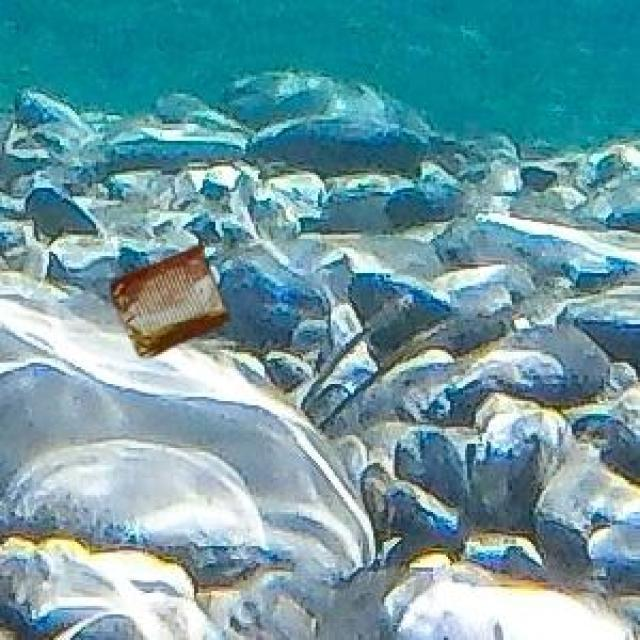Can: (108, 242, 225, 355)
